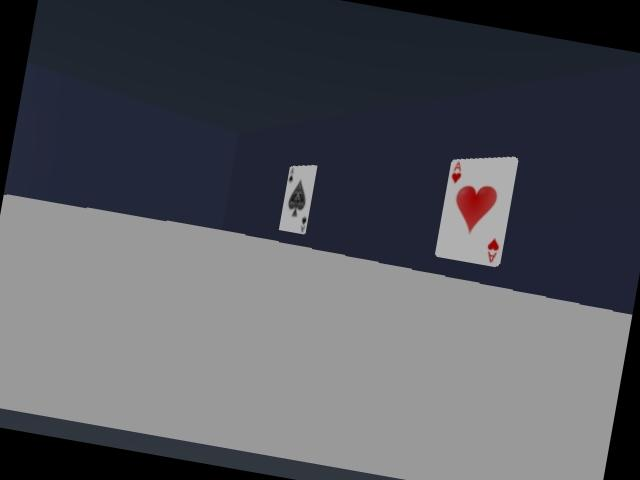heart: (435, 157, 517, 266)
spade: (279, 165, 316, 233)
